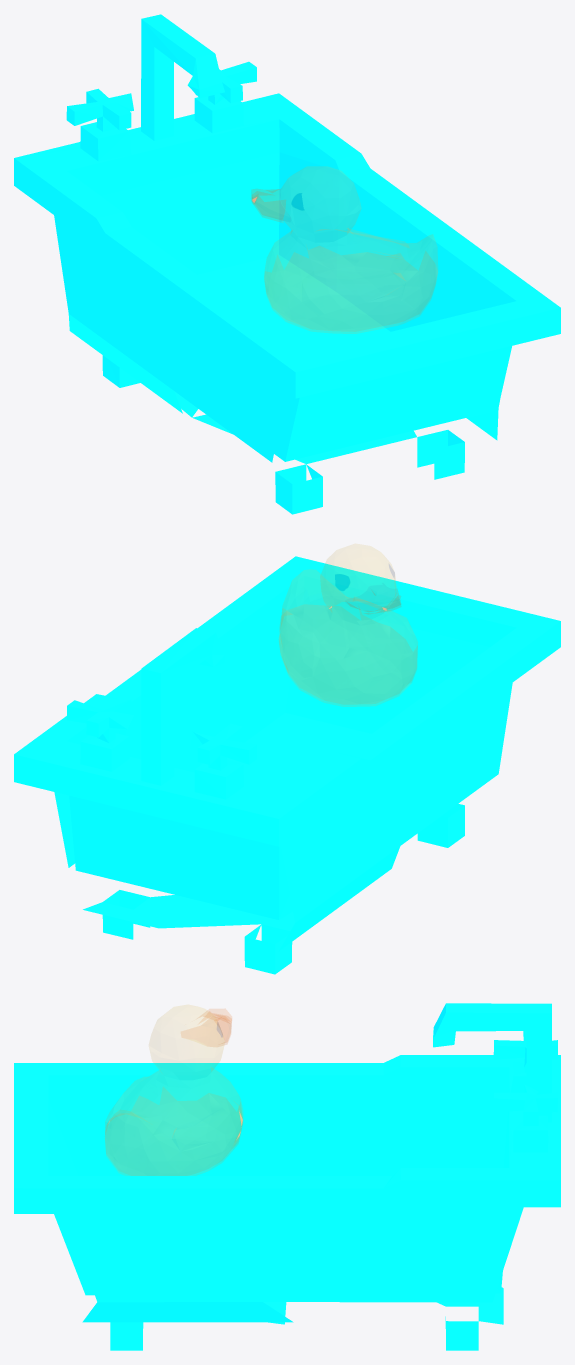
Rendered from tubb.glb.
The picture shows the model from 3 angles, top to bottom: view 1: azimuth 30°, elevation 25°; view 2: azimuth 150°, elevation 25°; view 3: azimuth 270°, elevation 25°; orthographic projection. The views are drawn at different scales.
Visible parts, largest first — view 1: tripo_node_cae1aaa8-4c82-486e-829d-f30bdc4d7794, tripo_node_3518f74c-b75f-4402-8739-427d72e4d304; view 2: tripo_node_cae1aaa8-4c82-486e-829d-f30bdc4d7794, tripo_node_3518f74c-b75f-4402-8739-427d72e4d304; view 3: tripo_node_cae1aaa8-4c82-486e-829d-f30bdc4d7794, tripo_node_3518f74c-b75f-4402-8739-427d72e4d304.
Boxes of the visible parts, left/top/right/bottom form: tripo_node_cae1aaa8-4c82-486e-829d-f30bdc4d7794: left=14, top=14, right=560, bottom=514; tripo_node_3518f74c-b75f-4402-8739-427d72e4d304: left=251, top=167, right=437, bottom=333; tripo_node_cae1aaa8-4c82-486e-829d-f30bdc4d7794: left=14, top=556, right=560, bottom=974; tripo_node_3518f74c-b75f-4402-8739-427d72e4d304: left=279, top=544, right=417, bottom=706; tripo_node_cae1aaa8-4c82-486e-829d-f30bdc4d7794: left=14, top=1003, right=560, bottom=1350; tripo_node_3518f74c-b75f-4402-8739-427d72e4d304: left=105, top=1005, right=242, bottom=1175.
Size of what is drawn, in the model's own units: 1.98 by 2.21 by 3.64.
Materials: 2 (1 with a texture image).
